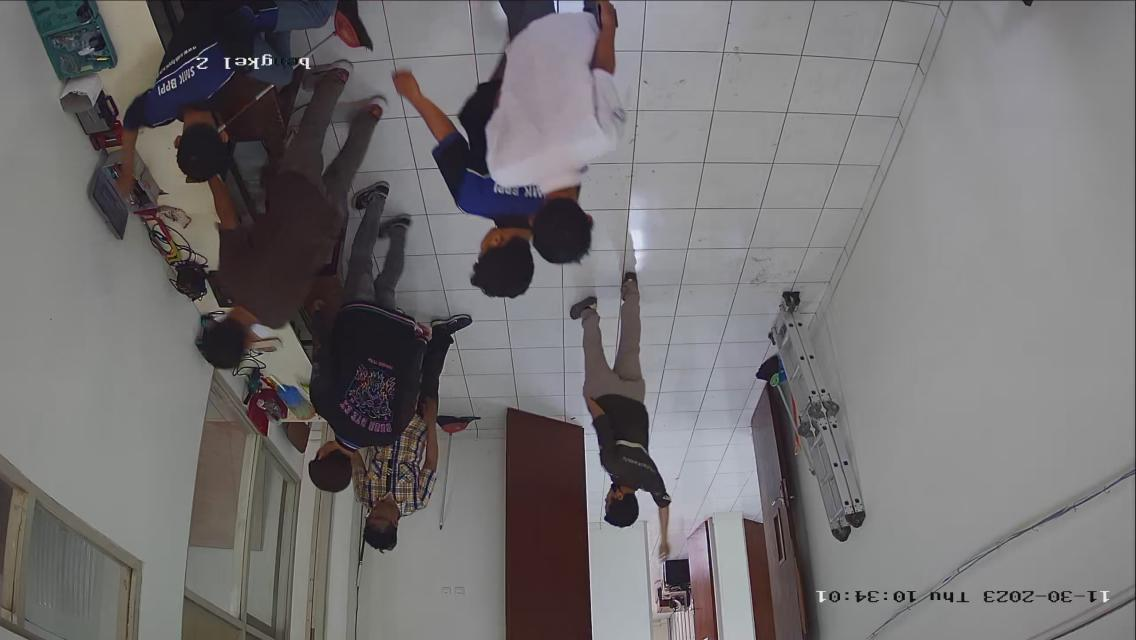Person-Crowd: (214, 91, 358, 373), (311, 216, 397, 486), (571, 281, 661, 533), (344, 310, 422, 564)
